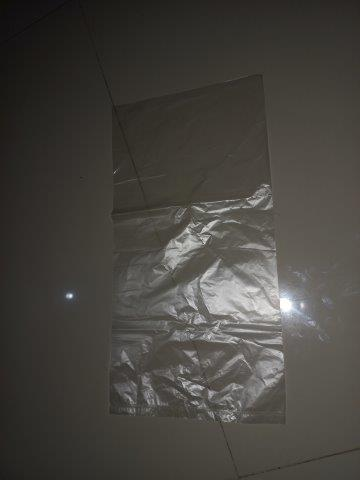plastik: (113, 74, 283, 430)
